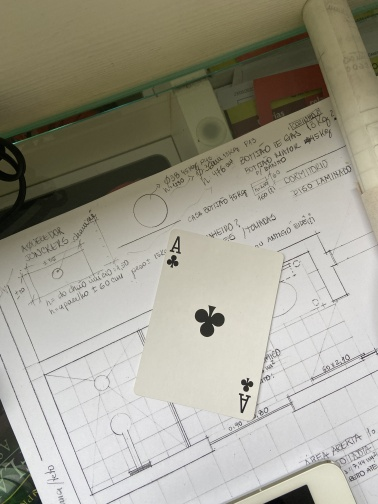ace: (133, 227, 285, 423)
